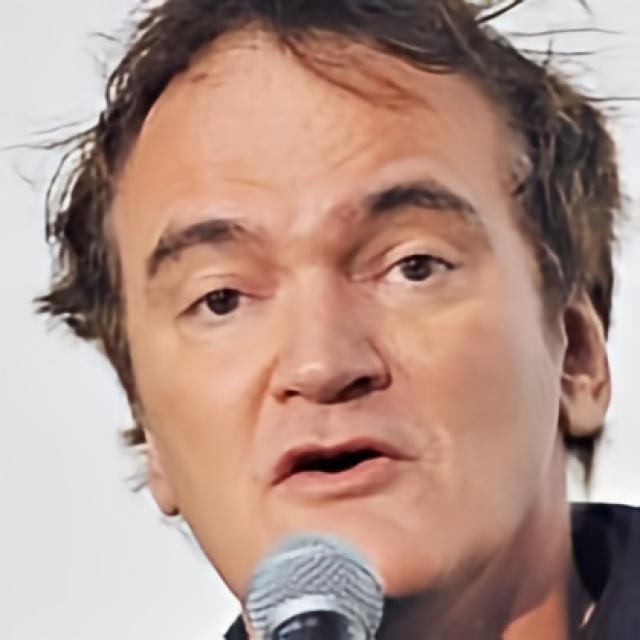Surprised: (117, 22, 562, 616)
